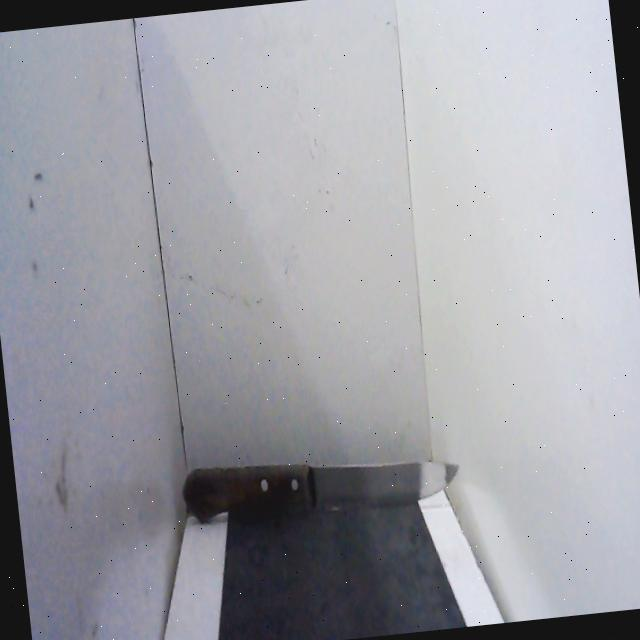metal: (308, 442, 466, 523)
